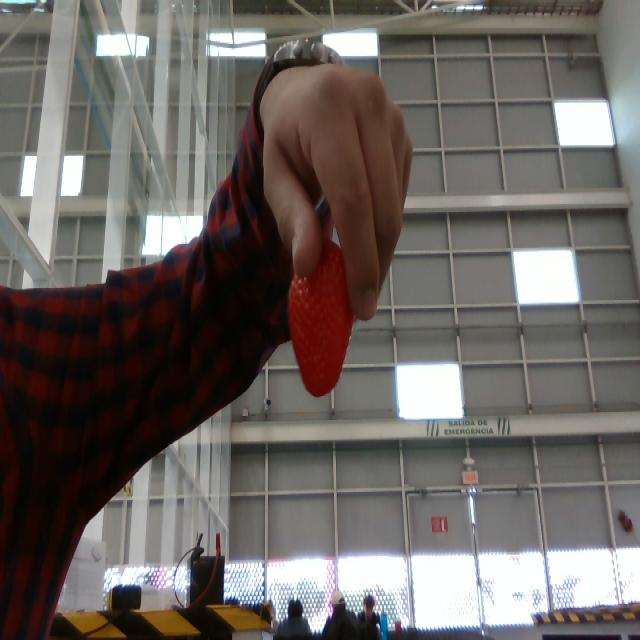grande_roja: (289, 240, 353, 396)
